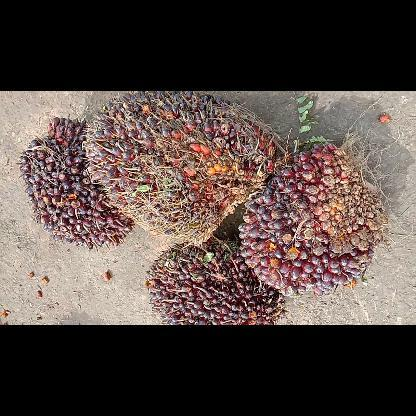Kurang masak: (83, 90, 281, 246), (238, 143, 388, 297), (17, 117, 134, 249), (144, 234, 284, 324)
